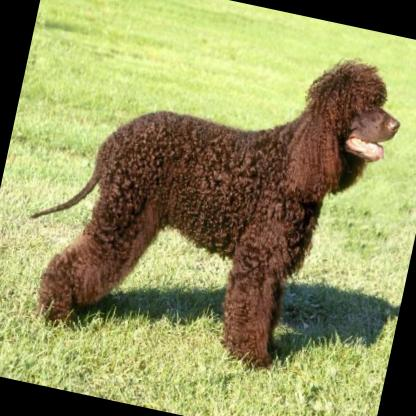Irish_water_spaniel: (6, 0, 410, 386)
